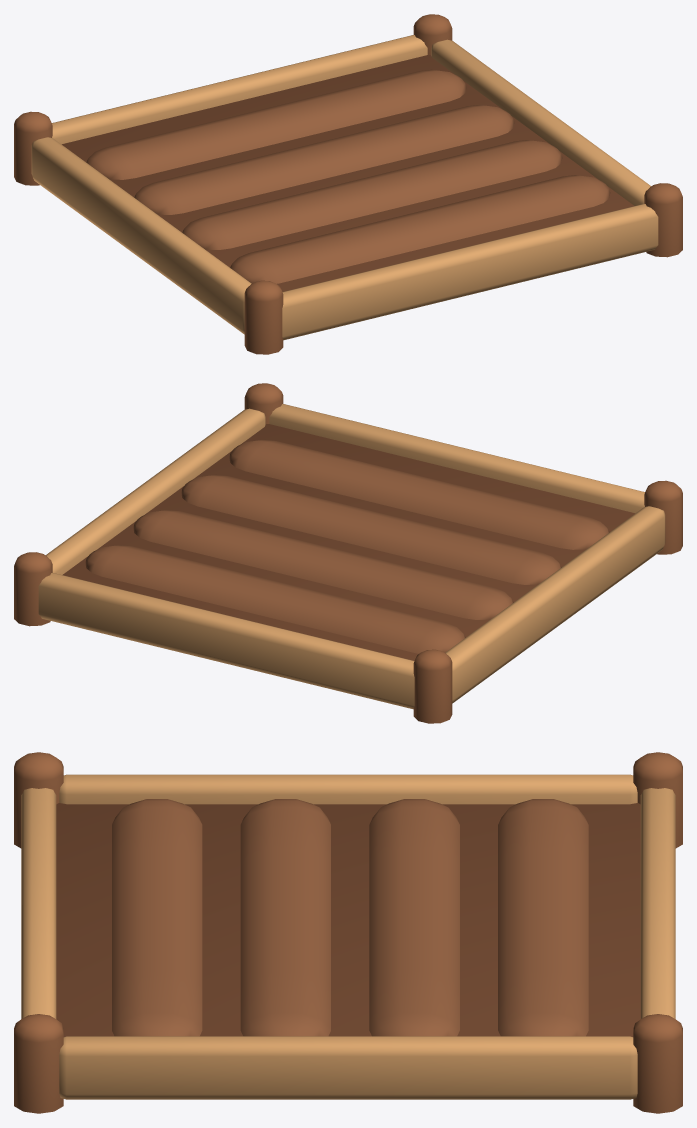
The model's file is prop_garden_plot.glb.
3 renders of one model, top to bottom at view 1: azimuth 30°, elevation 25°; view 2: azimuth 150°, elevation 25°; view 3: azimuth 270°, elevation 25°, orthographic. The views are drawn at different scales.
Visible parts, largest first — view 1: prop_garden_plot; view 2: prop_garden_plot; view 3: prop_garden_plot.
Part boxes in pixels (left/top/right/bottom): prop_garden_plot: left=14, top=14, right=682, bottom=354; prop_garden_plot: left=14, top=383, right=682, bottom=723; prop_garden_plot: left=14, top=752, right=682, bottom=1113.
Bounding box in the file's own units: 1.93 × 0.27 × 1.92.
